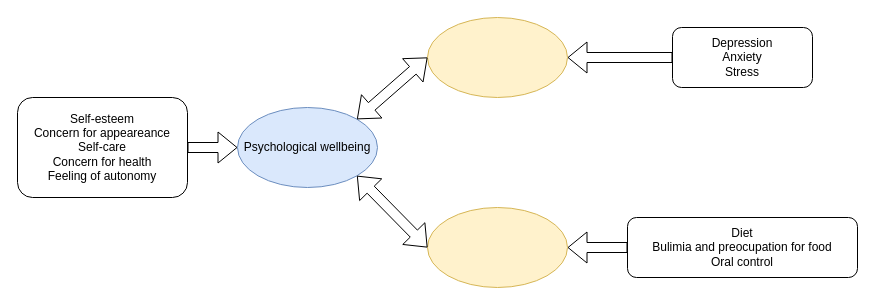
Some shapes in this 875 by 305 pixel diagram are drawn without their labels. Here are the shapes that lost their labels. From the top down, the box of each, then its label:
(426, 16, 568, 98): Anxious and depressive symptomatology
(426, 206, 568, 288): Symptomatology of Eating Disorder
